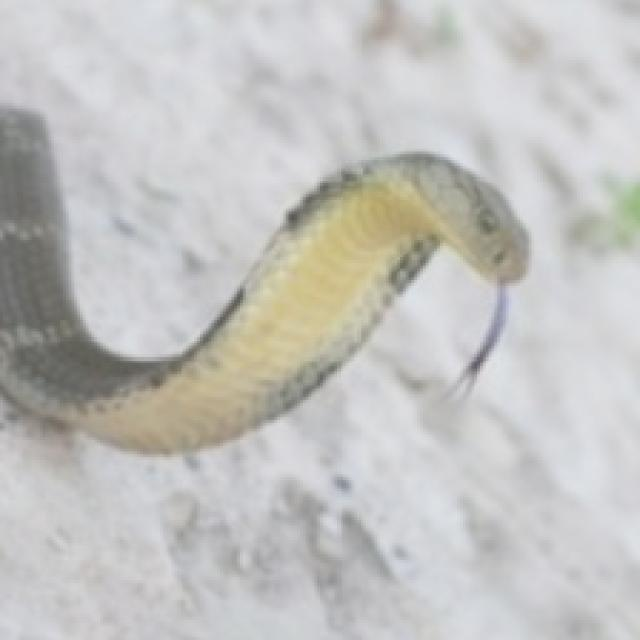king cobra: (0, 109, 526, 451)
